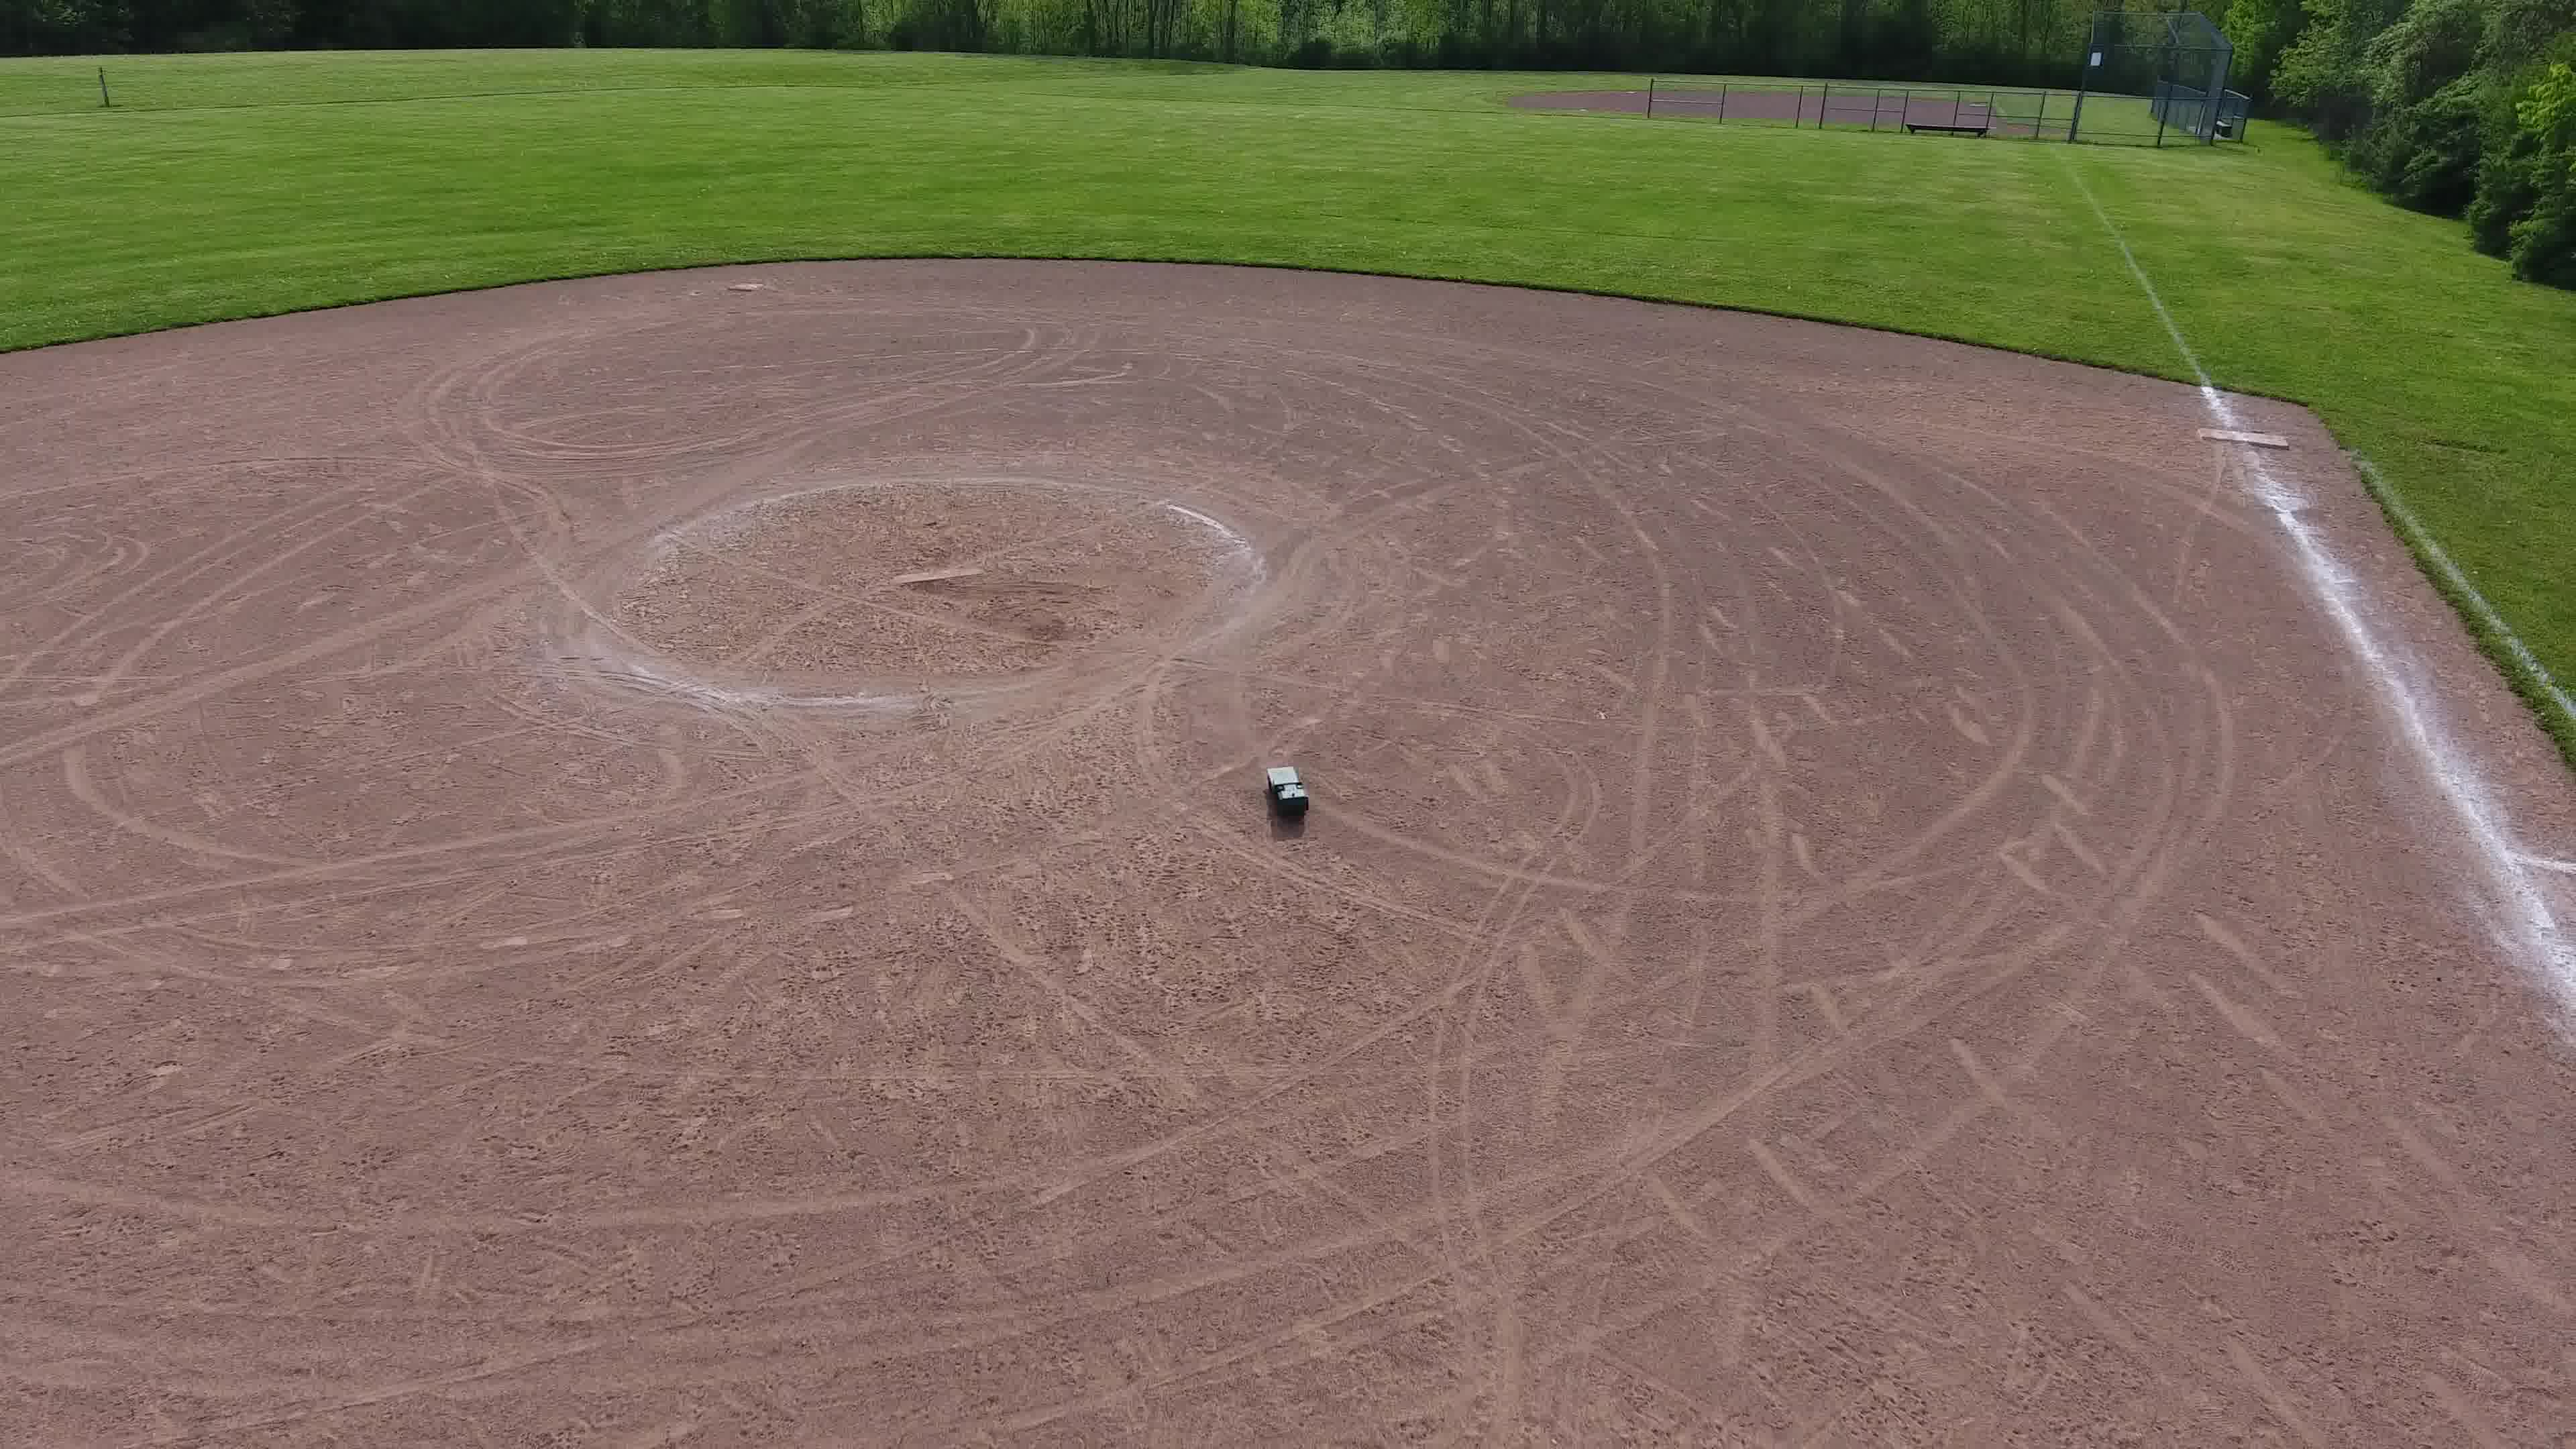transporter9: (1261, 763, 1313, 816)
